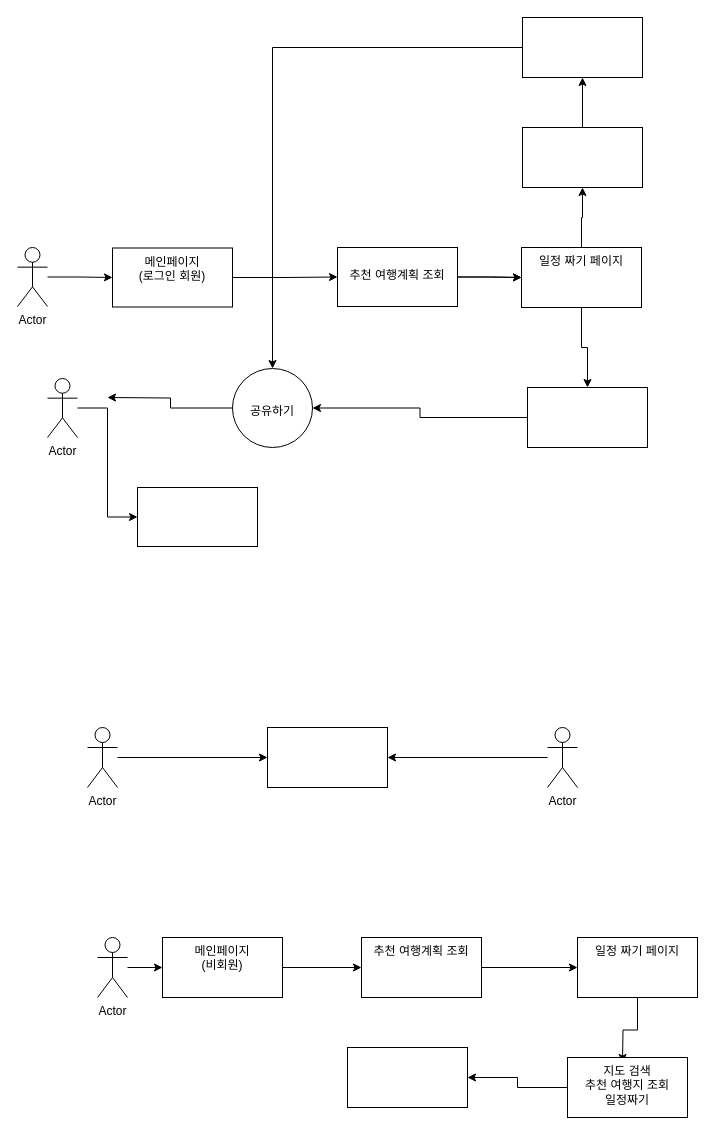
Image size: 715x1135. Some labels were removed from this diagram. The shapes that lost their labels are listed below. From the top down, each one's box as (x1, y1, x2, y2) in pixels, then its label:
(522, 16, 642, 78): 일정 실시간 저장 저장 버튼 누를 시 확장자로 공유 기능 활성
(522, 126, 642, 188): 지도 검색 추천 여행지 검색 일정짜기
(526, 386, 648, 448): 마이페이지
(136, 486, 258, 546): 로그인
(266, 726, 388, 788): 공유된 일정 동시 조회
(346, 1046, 468, 1108): 일정 저장 버튼 클릭 시 회원가입 알림창
